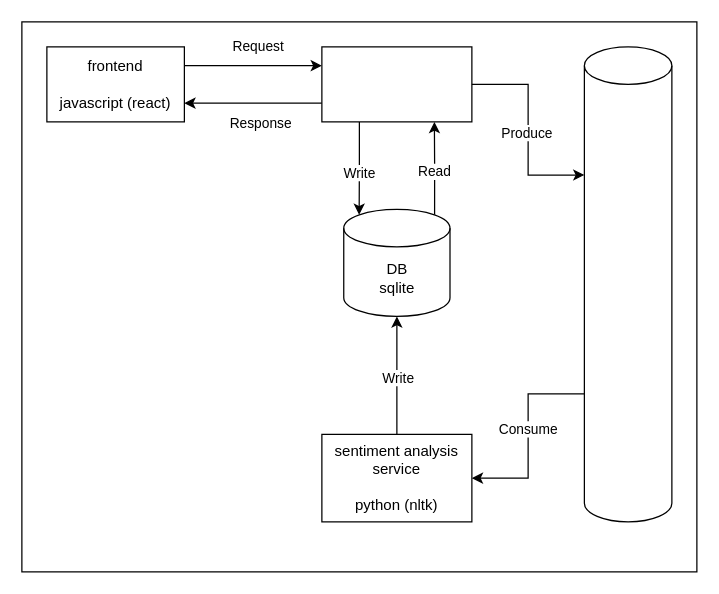
The diagram is 719 pixels wide and 594 high, and some of its shapes have lost their labels. The centre of each missing label's shape, as x and y in pixels:
"backend typescript (express)" belongs at pixel 396 84.
"Event streaming Kafka cluster" belongs at pixel 627 284.
